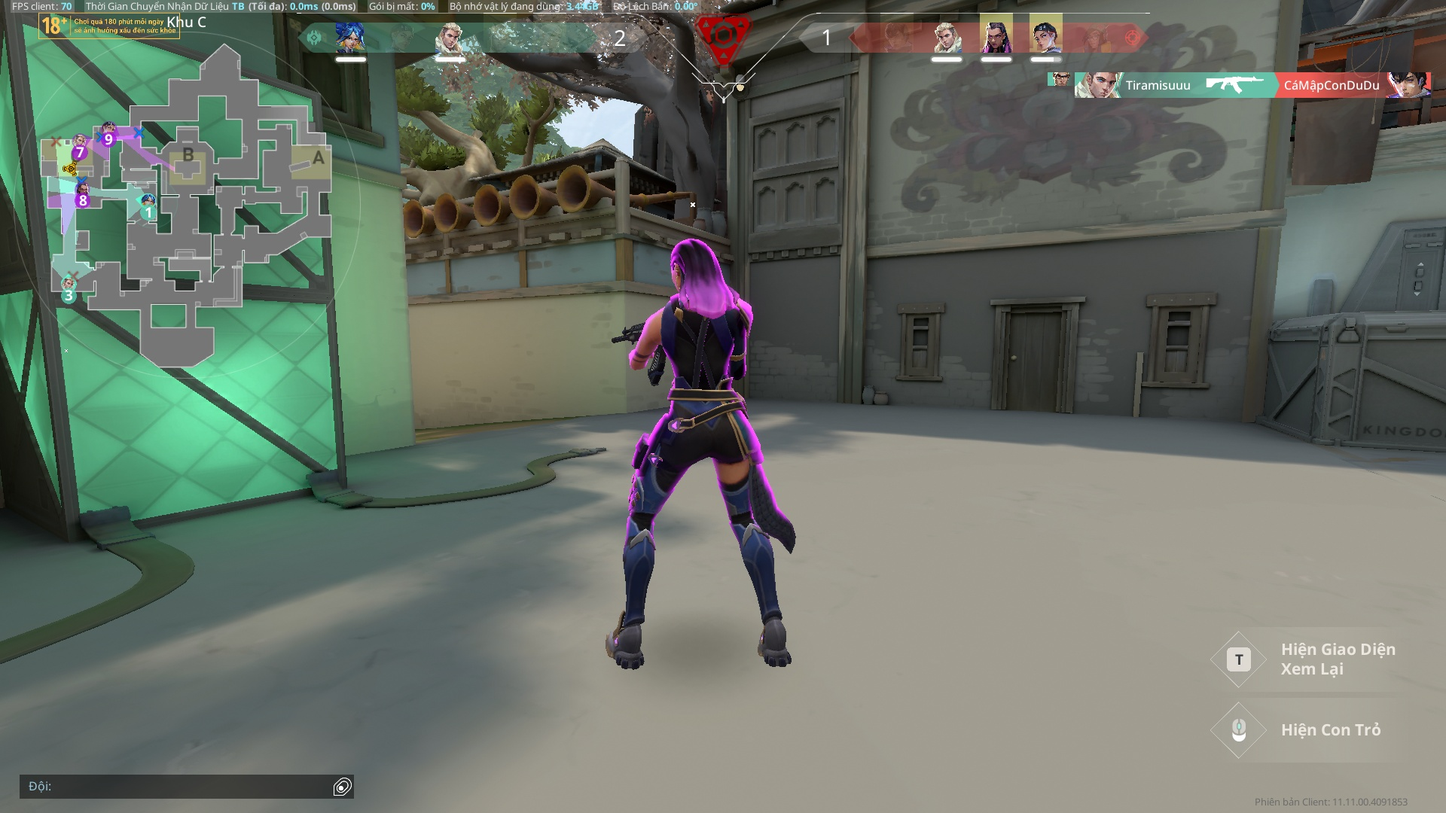body: (660, 285, 747, 391)
head: (665, 233, 720, 293)
